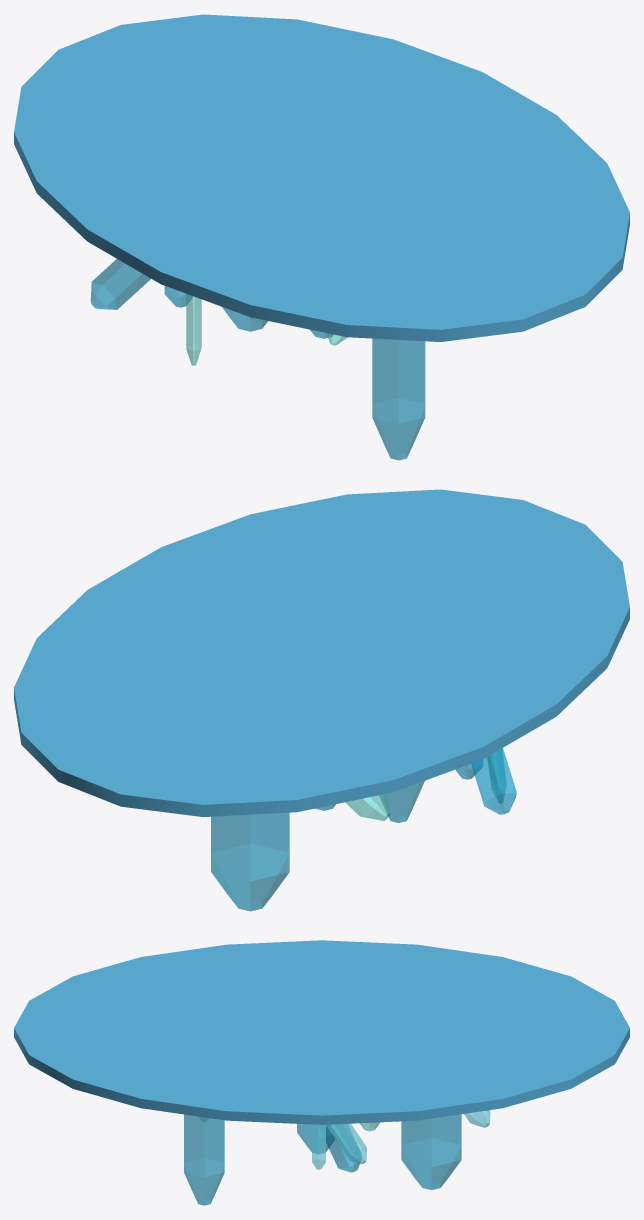
3 renders of one model, top to bottom at view 1: azimuth 30°, elevation 25°; view 2: azimuth 150°, elevation 25°; view 3: azimuth 270°, elevation 25°, orthographic. The views are drawn at different scales.
Visible parts, largest first — view 1: pCylinder432, pCylinder440, pCylinder437, pCylinder443; view 2: pCylinder432, pCylinder430, pCylinder437, pCylinder440, pCylinder426, pCylinder443; view 3: pCylinder432, pCylinder430, pCylinder440, pCylinder431, pCylinder435, pCylinder446, pCylinder434.
Part boxes in pixels (left/top/right/bottom): pCylinder432: left=14, top=14, right=629, bottom=341; pCylinder440: left=372, top=338, right=425, bottom=460; pCylinder437: left=90, top=259, right=150, bottom=309; pCylinder443: left=186, top=294, right=201, bottom=365; pCylinder432: left=14, top=489, right=629, bottom=816; pCylinder430: left=211, top=812, right=289, bottom=911; pCylinder437: left=471, top=748, right=516, bottom=814; pCylinder440: left=379, top=781, right=424, bottom=822; pCylinder426: left=345, top=793, right=390, bottom=820; pCylinder443: left=487, top=749, right=506, bottom=803; pCylinder432: left=14, top=940, right=629, bottom=1124; pCylinder430: left=401, top=1114, right=461, bottom=1189; pCylinder440: left=184, top=1114, right=224, bottom=1205; pCylinder431: left=318, top=1124, right=361, bottom=1172; pCylinder435: left=326, top=1123, right=366, bottom=1164; pCylinder446: left=297, top=1124, right=334, bottom=1153; pCylinder434: left=312, top=1124, right=325, bottom=1169.
Bounding box in the file's own units: 3.7 × 1.72 × 5.49.
